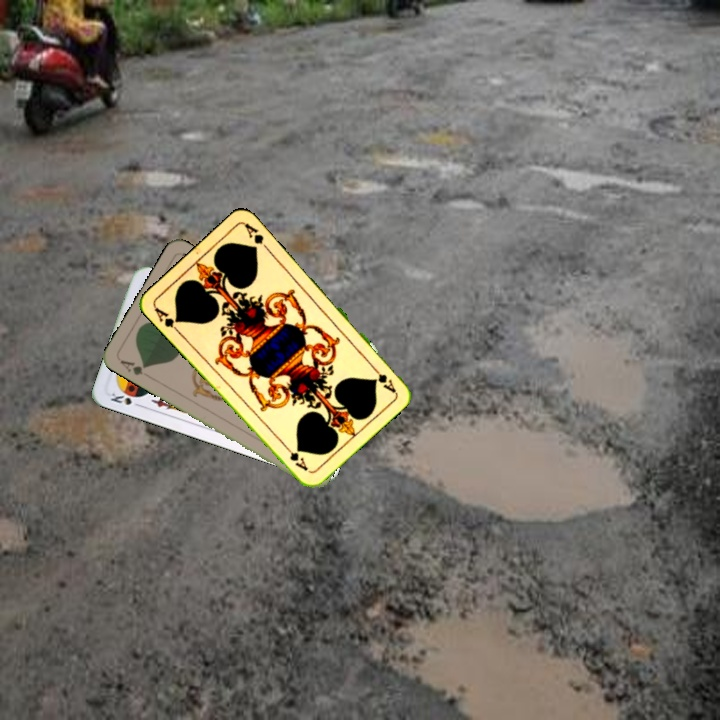GA: (150, 303, 183, 336), (367, 361, 398, 395), (116, 356, 153, 381)
SK: (106, 389, 145, 410)
